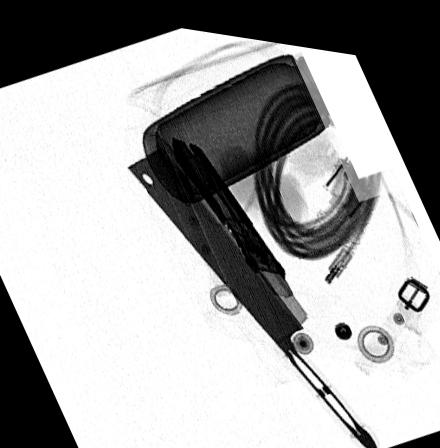Knife: (126, 140, 379, 441), (171, 129, 309, 315)
